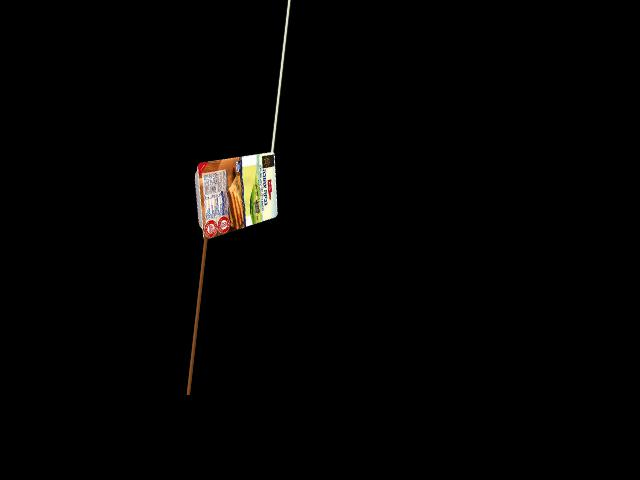cheese: (191, 151, 282, 232)
